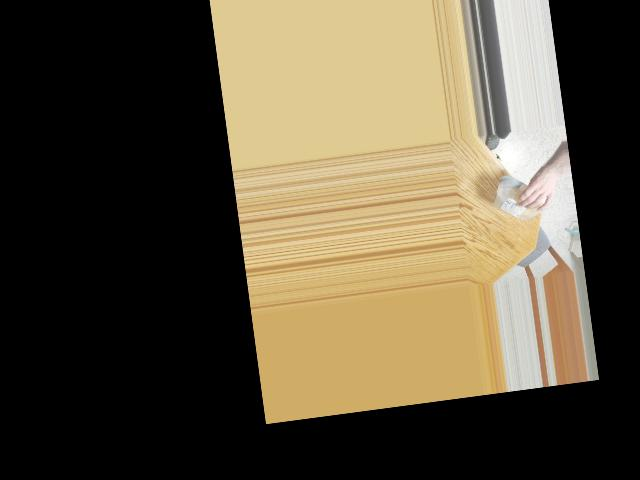cheese: (492, 173, 553, 225)
